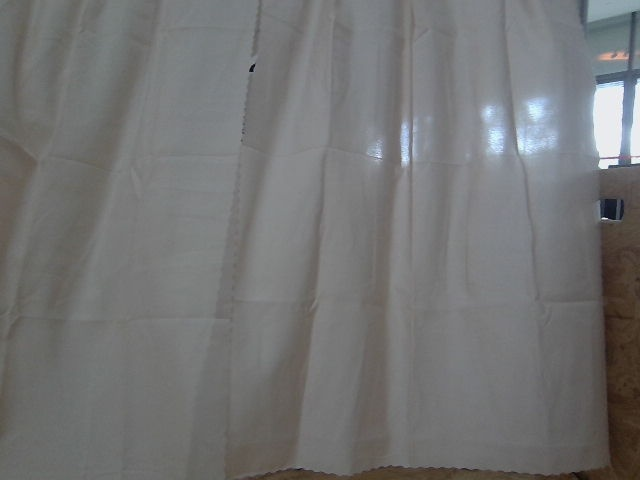curtain: (0, 0, 640, 466)
